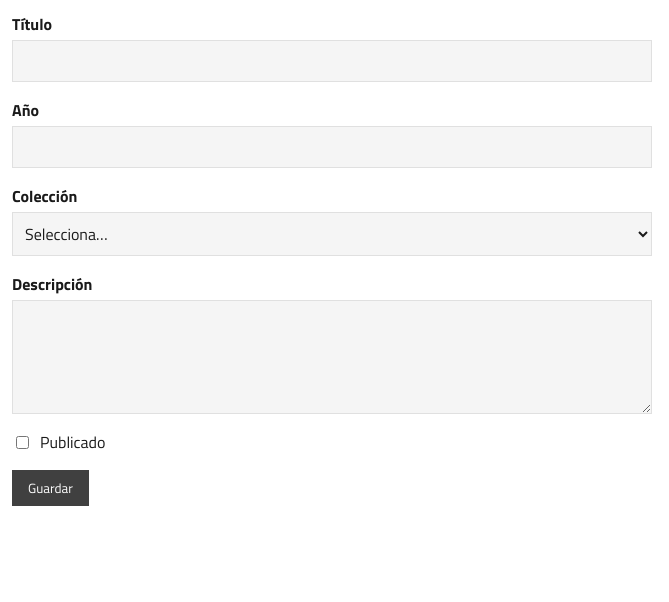
Test case: EntityForm › bloquea el envío con campos requeridos vacíos y marca los errores
Click the button "Guardar" at (50, 488), box [12,470,89,506]
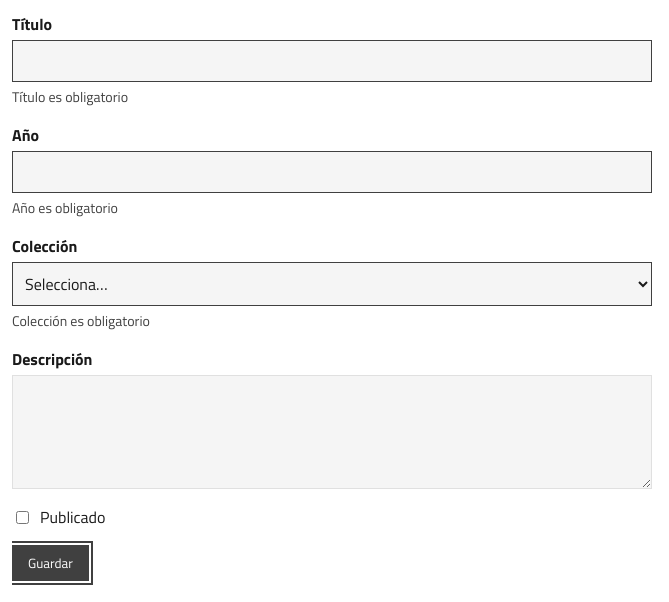
Expected: the text "Título es obligatorio" is shown, [12,86,128,107]
Expected: the text "Año es obligatorio" is shown, [12,197,118,218]
Expected: the text "Colección es obligatorio" is shown, [12,310,150,331]
